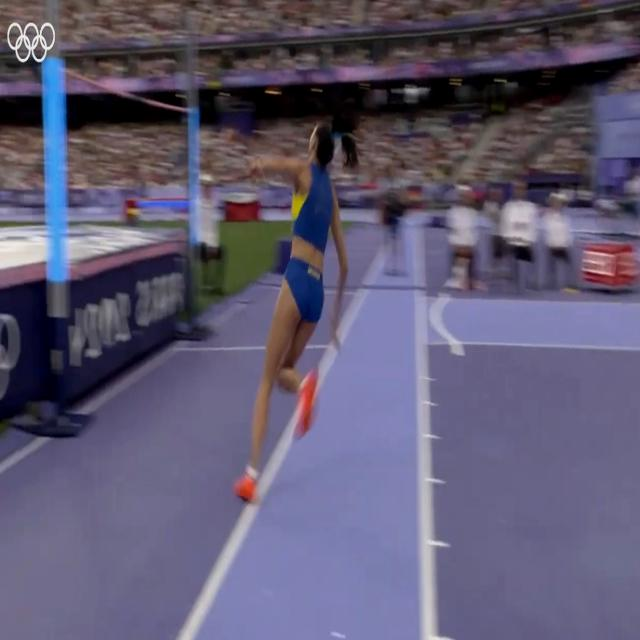run: (232, 121, 348, 504)
